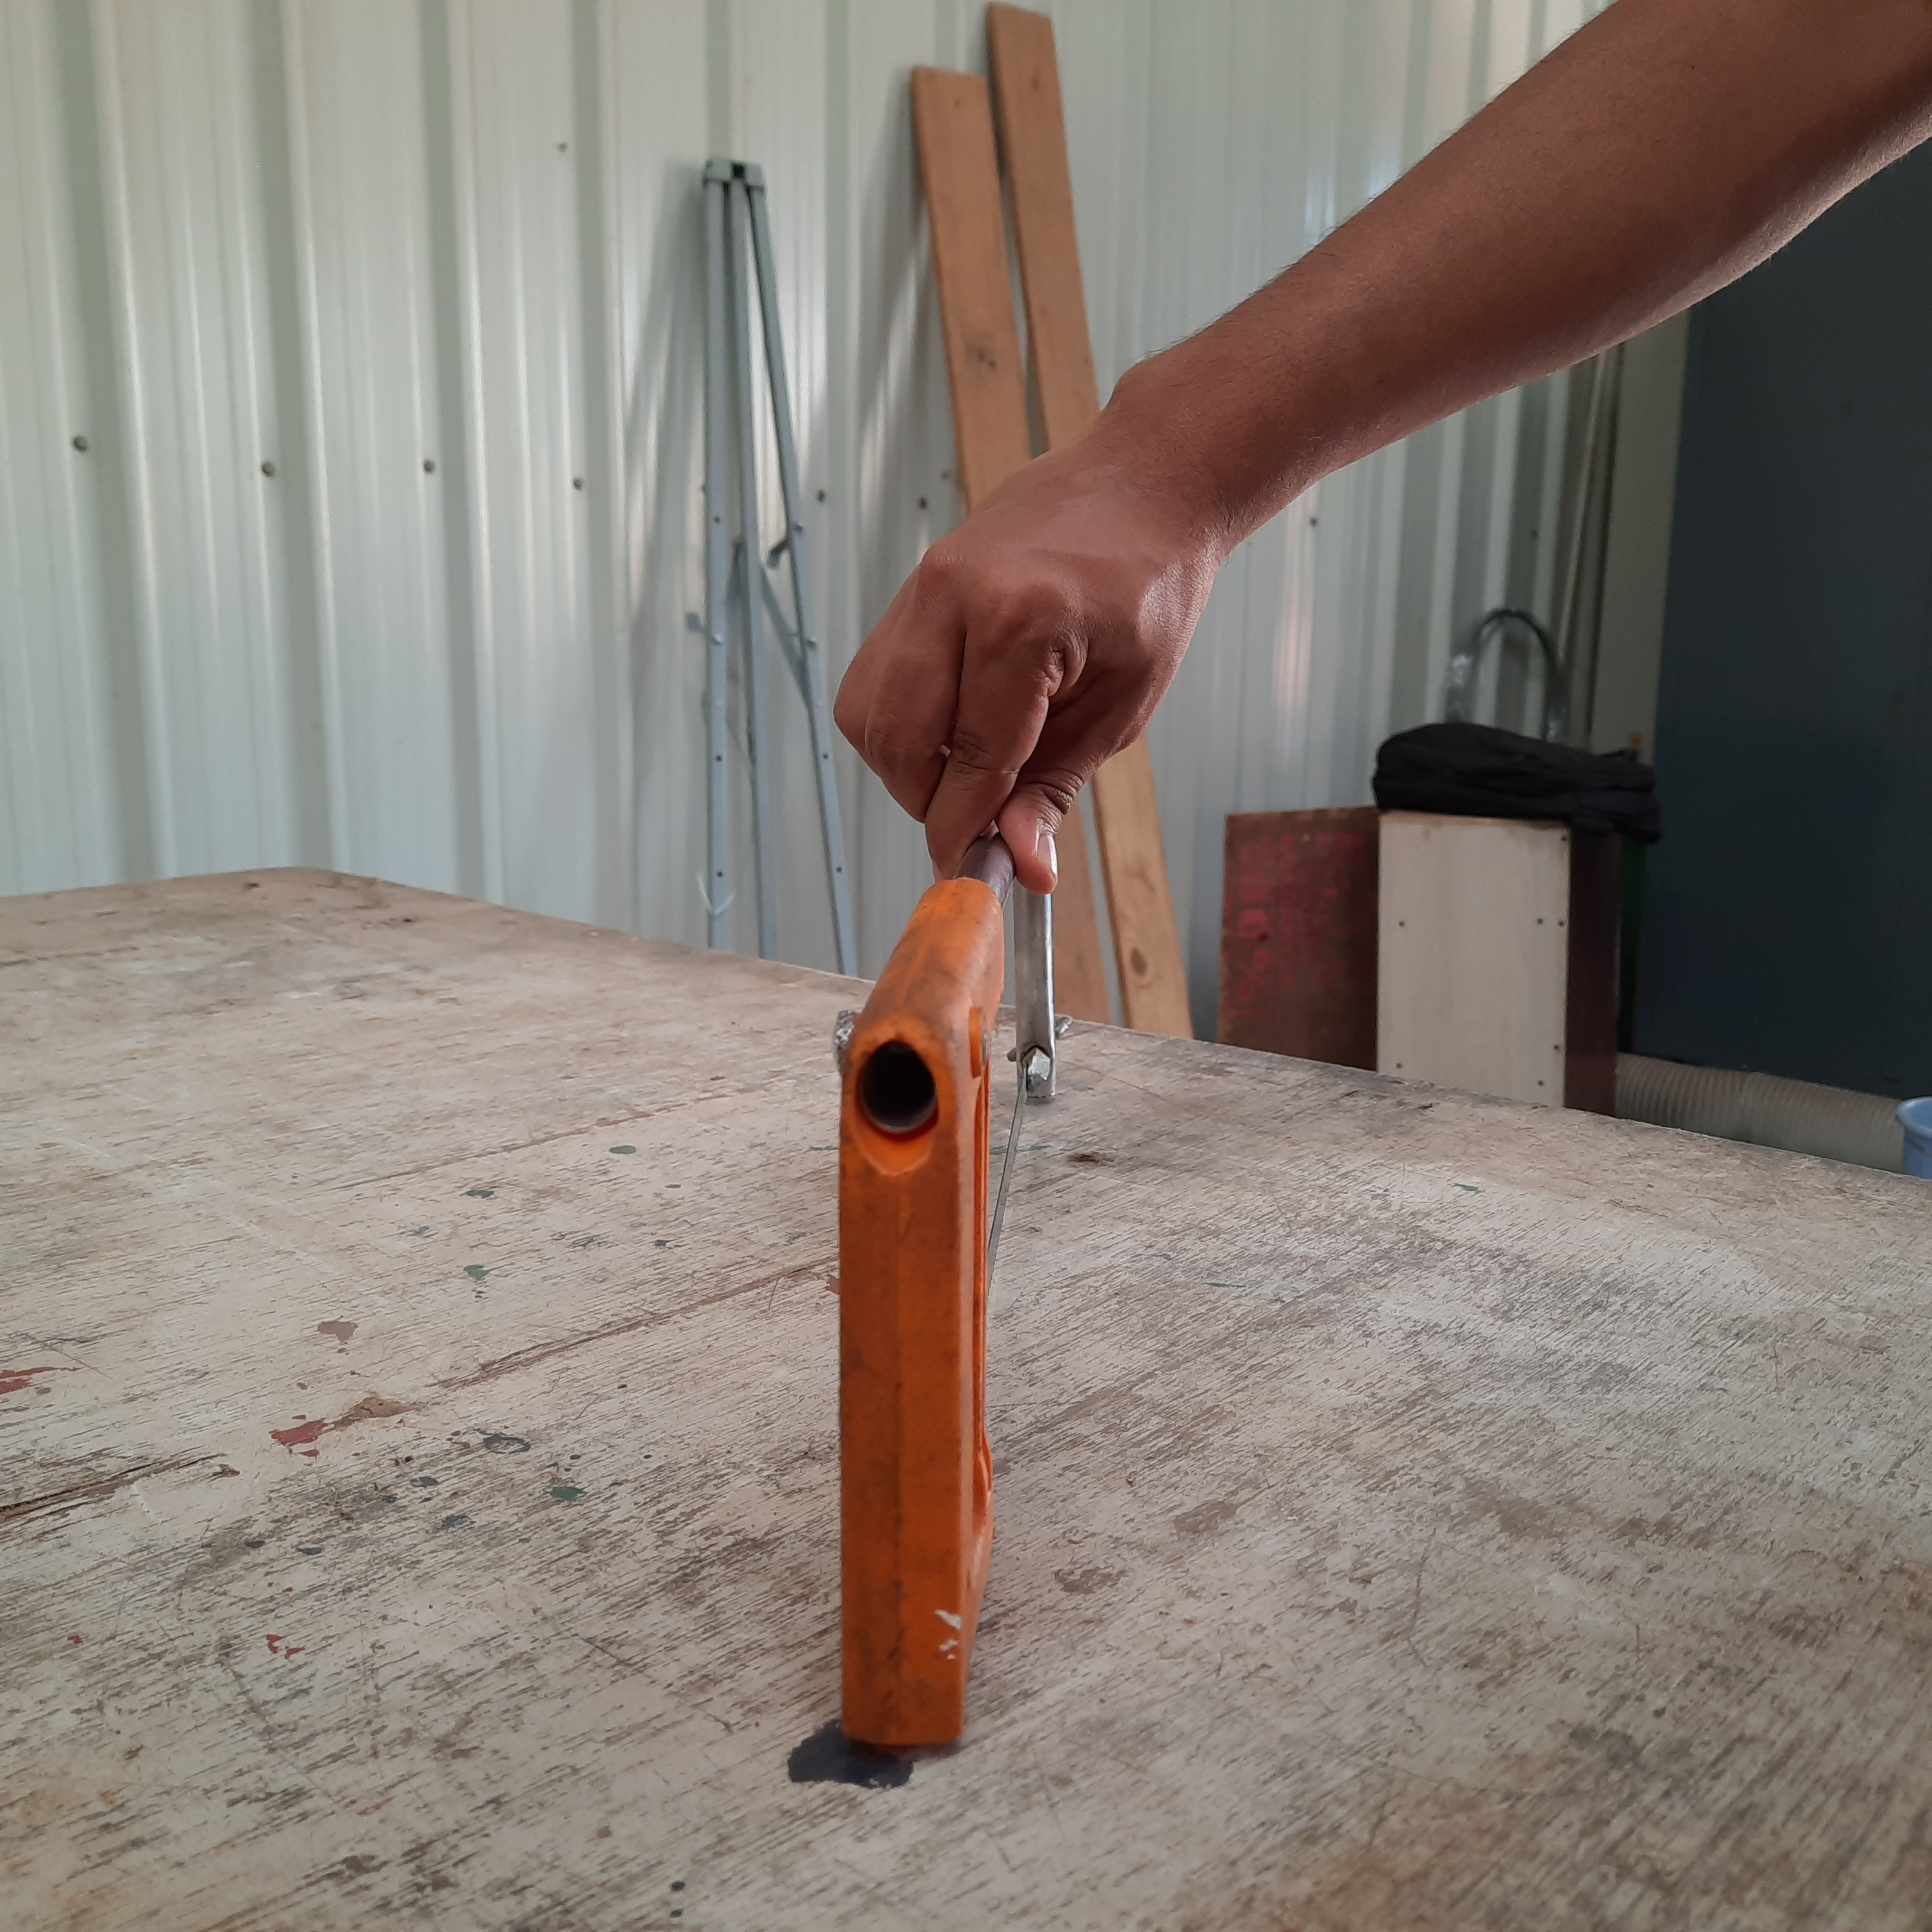Hexaframe: (777, 757, 1215, 1767)
